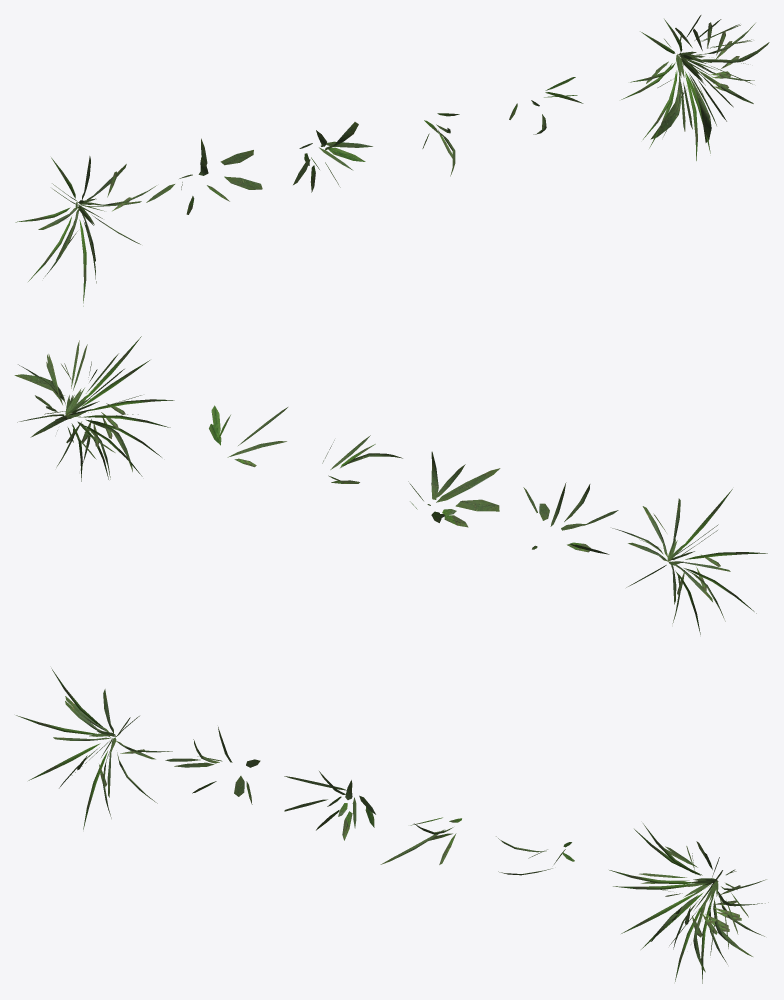
Rendered from grass3.glb.
3 views of the same model, one above another, from view 1: azimuth 30°, elevation 25°; view 2: azimuth 150°, elevation 25°; view 3: azimuth 330°, elevation 25° (orthographic).
Visible parts, largest first — view 1: Foliage001_2K-JPG_Color.008, Foliage001_2K-JPG_Color.014, Foliage001_2K-JPG_Color.001, Foliage001_2K-JPG_Color.002; view 2: Foliage001_2K-JPG_Color.008, Foliage001_2K-JPG_Color.014, Foliage001_2K-JPG_Color.001, Foliage001_2K-JPG_Color.002, Foliage001_2K-JPG_Color.003, Foliage001_2K-JPG_Color.006; view 3: Foliage001_2K-JPG_Color.008, Foliage001_2K-JPG_Color.014, Foliage001_2K-JPG_Color.001, Foliage001_2K-JPG_Color.002, Foliage001_2K-JPG_Color.006.
Part boxes in pixels (<box>): Foliage001_2K-JPG_Color.008: <box>621,15,769,160</box>; Foliage001_2K-JPG_Color.014: <box>15,156,156,306</box>; Foliage001_2K-JPG_Color.001: <box>293,122,372,192</box>; Foliage001_2K-JPG_Color.002: <box>146,138,262,214</box>; Foliage001_2K-JPG_Color.008: <box>14,336,174,481</box>; Foliage001_2K-JPG_Color.014: <box>612,489,767,634</box>; Foliage001_2K-JPG_Color.001: <box>408,451,500,527</box>; Foliage001_2K-JPG_Color.002: <box>523,482,618,554</box>; Foliage001_2K-JPG_Color.003: <box>209,405,287,467</box>; Foliage001_2K-JPG_Color.006: <box>322,435,402,483</box>; Foliage001_2K-JPG_Color.008: <box>609,823,768,983</box>; Foliage001_2K-JPG_Color.014: <box>16,668,172,829</box>; Foliage001_2K-JPG_Color.001: <box>284,771,375,840</box>; Foliage001_2K-JPG_Color.002: <box>165,727,260,804</box>; Foliage001_2K-JPG_Color.006: <box>380,817,461,864</box>.
Bounding box in the file's own units: 2.02 × 0.4048 × 0.2549.
Materials: 1 (1 with a texture image).
